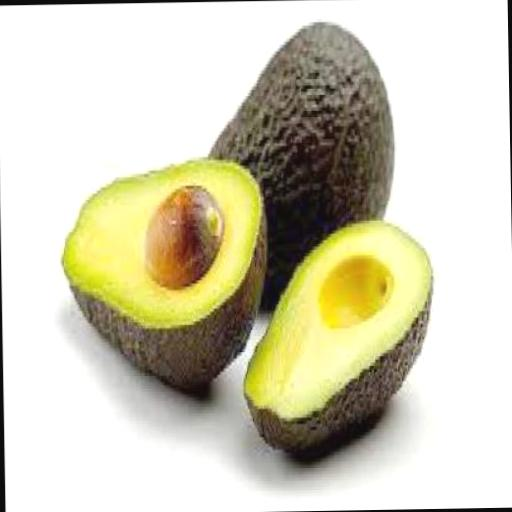biodegradable: (195, 16, 398, 308), (54, 152, 267, 390), (238, 208, 433, 452), (144, 178, 224, 288)
